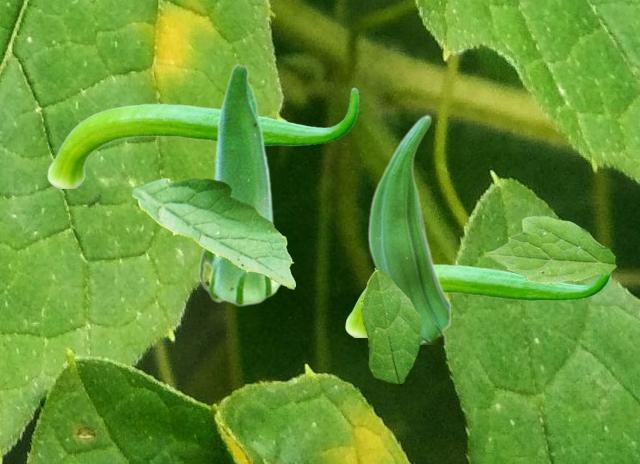okra: (47, 87, 358, 187), (198, 63, 282, 306), (345, 264, 611, 336), (367, 114, 449, 343)
